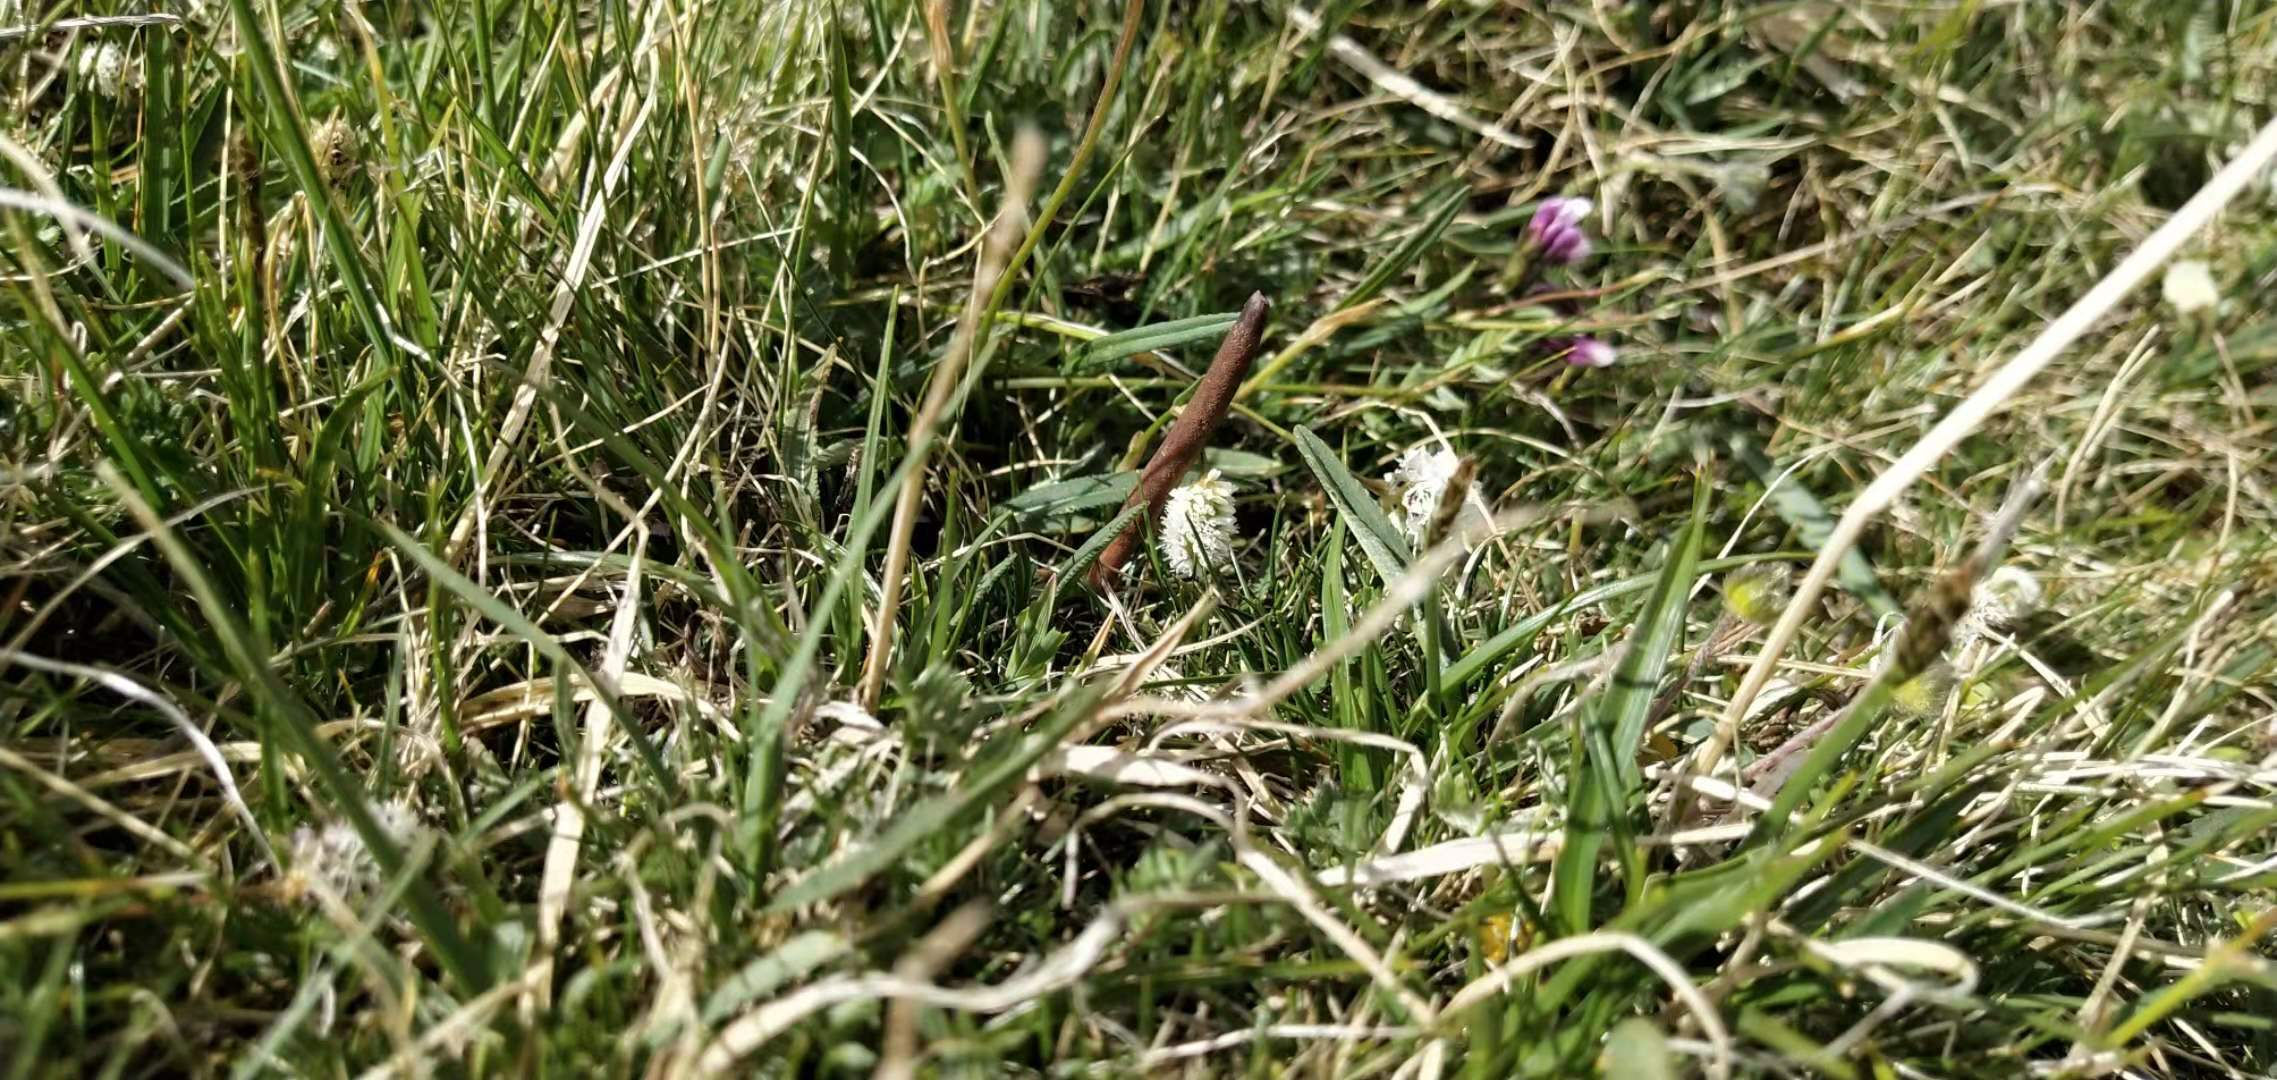cpf: (1085, 285, 1272, 594)
